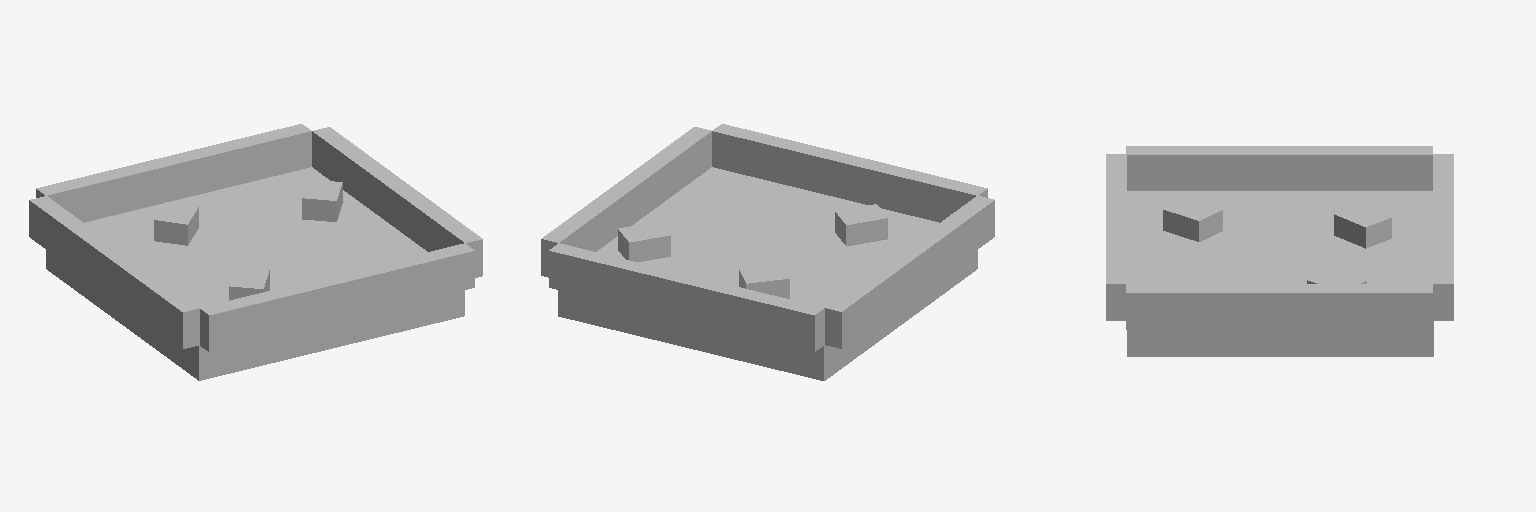
The model's file is planeHugeWithWalls.obj.
The picture shows the model from 3 angles: view 1: azimuth 30°, elevation 25°; view 2: azimuth 150°, elevation 25°; view 3: azimuth 270°, elevation 25°; orthographic projection.
Parts seen in each view (by area): view 1: Cube, Cube.002, Cube.001, Cube.004, Cube.003, Plane; view 2: Cube, Cube.001, Cube.002, Cube.004, Cube.003, Plane; view 3: Cube, Cube.003, Cube.004, Plane, Cube.001, Cube.002.
Boxes of the visible parts, x1,y1,x2,y2 form: Cube: [46, 167, 464, 380]; Cube.002: [200, 243, 474, 352]; Cube.001: [36, 124, 311, 222]; Cube.004: [29, 196, 199, 348]; Cube.003: [312, 127, 482, 277]; Plane: [154, 179, 342, 300]; Cube: [558, 167, 977, 380]; Cube.001: [549, 243, 824, 352]; Cube.002: [712, 124, 987, 222]; Cube.004: [824, 196, 994, 348]; Cube.003: [541, 127, 711, 277]; Plane: [618, 204, 887, 298]; Cube: [1127, 191, 1433, 356]; Cube.003: [1126, 284, 1432, 329]; Cube.004: [1126, 146, 1432, 190]; Plane: [1163, 198, 1391, 283]; Cube.001: [1433, 154, 1453, 320]; Cube.002: [1106, 154, 1126, 320].
Size of the model in its own units: 170 by 39.42 by 170.